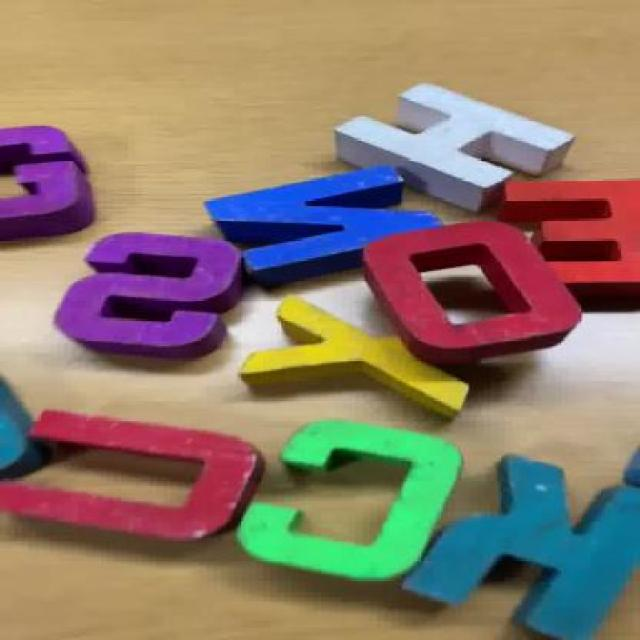H: (331, 82, 597, 196)
O: (366, 218, 594, 362)
U: (15, 397, 266, 558)
